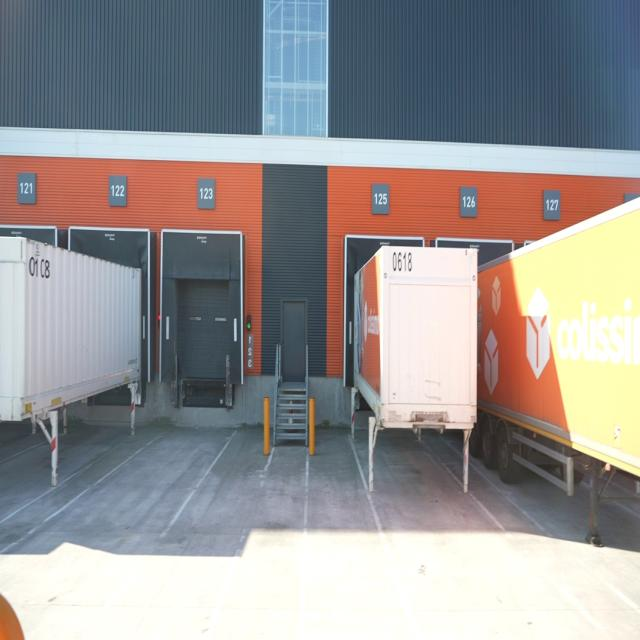Code: (391, 246, 417, 276)
